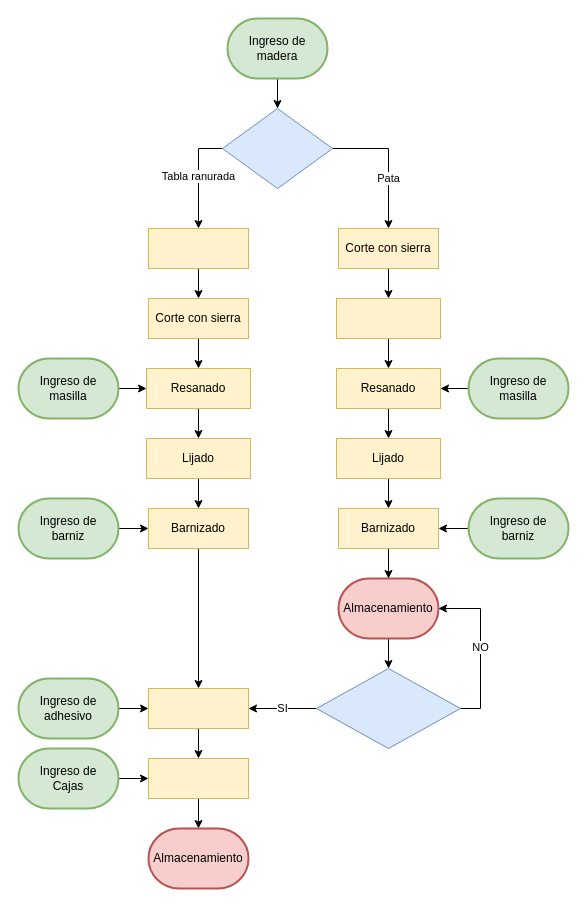
Some shapes in this 586 by 906 pixel diagram are drawn without their labels. The centre of each missing label's shape, as x and y in pixels:
Biselado: the point at 388,318
Empaquetado: the point at 198,778
Ensamble: the point at 198,708
Fresado CNC: the point at 198,248
Tipo de parte: the point at 277,148
¿Hay tablas ranuradas disponibles?: the point at 388,708
